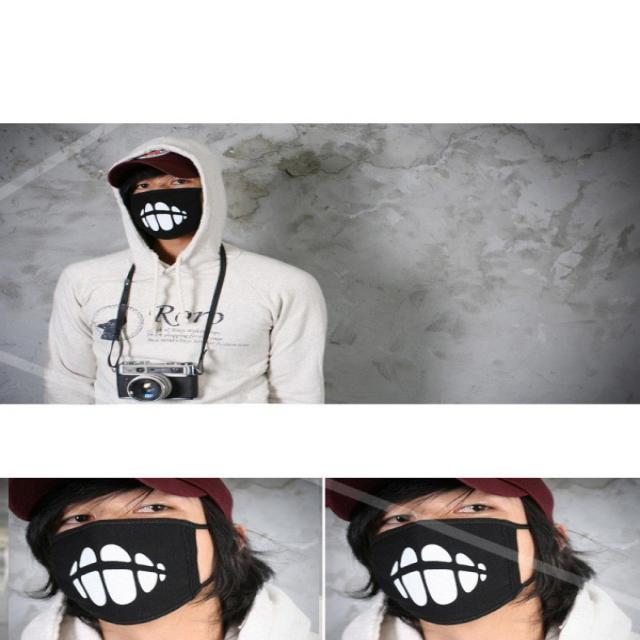mask: (363, 480, 537, 625), (46, 476, 199, 626), (127, 160, 199, 237)
